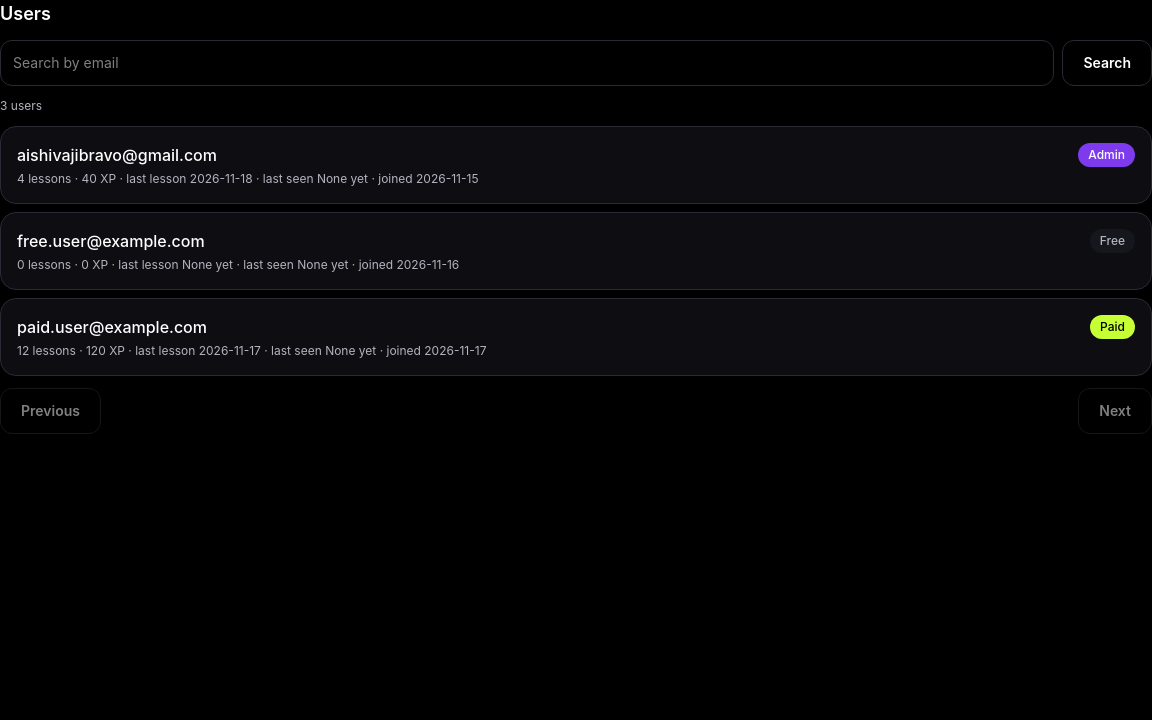
Test: admin console › gives the admin account no plan control
What coordinates should you click on to do the following:
click the text "aishivajibravo@gmail.com"
I would click on:
 (117, 155)
Its box is [17,143,217,167].
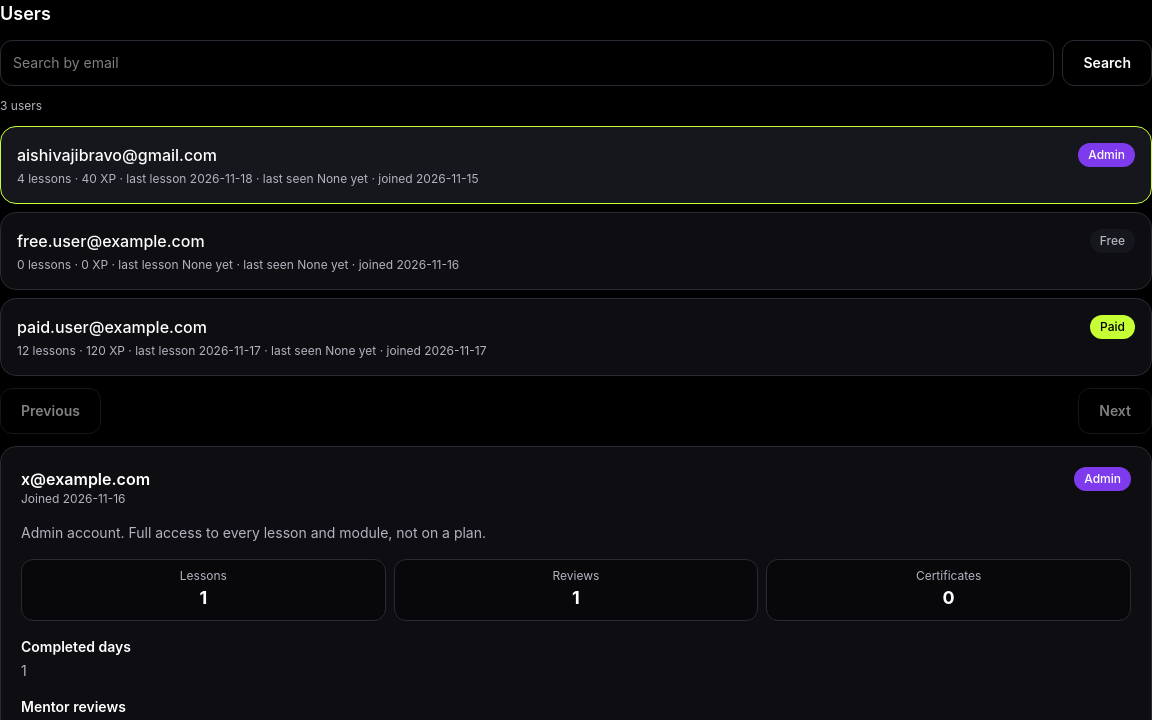
Check: the text "Admin account. Full access" is shown, box [21,524,486,541]
